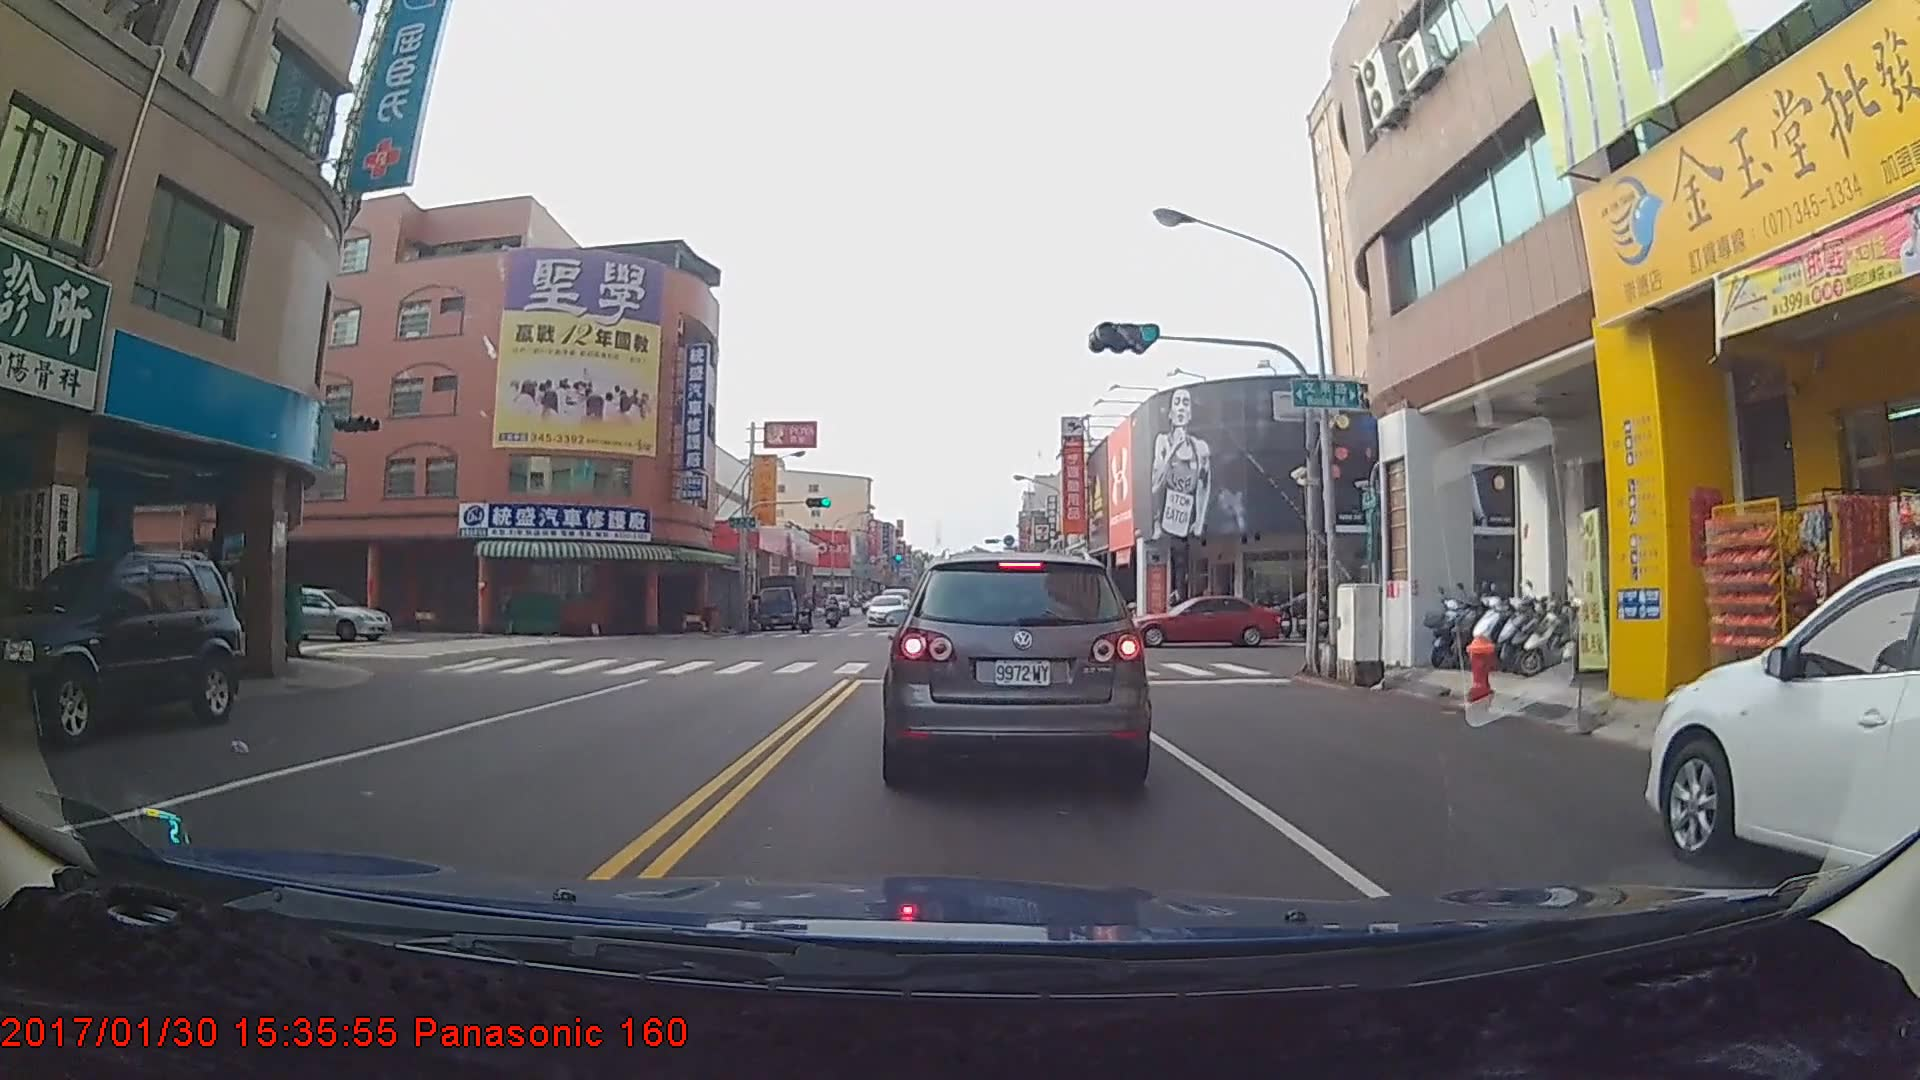rider: (790, 591, 819, 633), (825, 594, 848, 632)
vehicle: (1647, 540, 1920, 936), (887, 547, 1143, 787), (0, 547, 240, 744), (1122, 592, 1281, 646), (250, 580, 396, 635), (754, 574, 809, 632), (863, 592, 907, 628)
